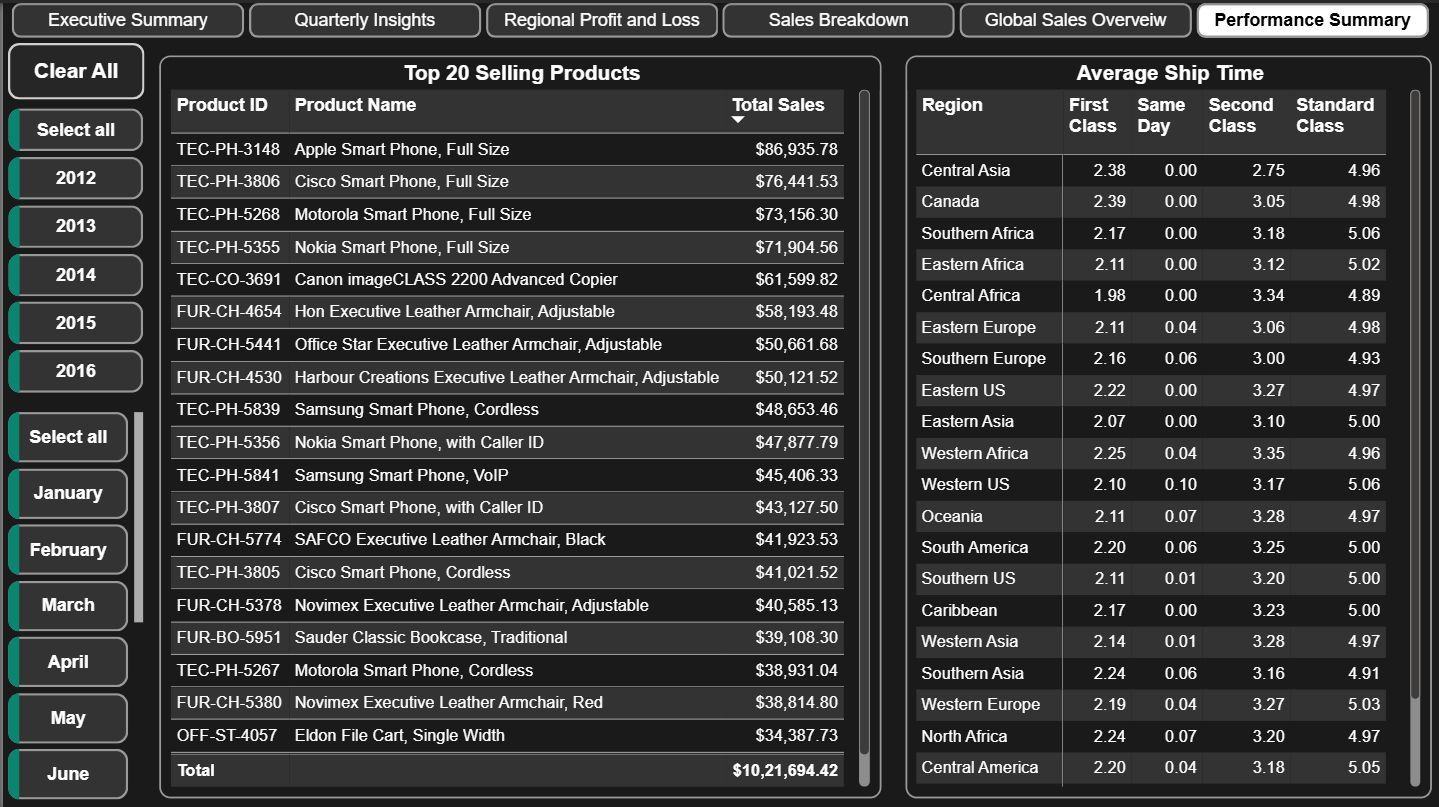

The dashboard page shown, as its layout file describes it:
{"tool":"powerbi","page":{"name":"Performance Summary","canvas":[1280,720],"ordinal":5},"visuals":[{"type":"pageNavigator","box":[8.1,0,1263.8,31.9],"z":0},{"type":"actionButton","box":[4.9,35.6,121.5,50.3],"z":250},{"type":"advancedSlicerVisual","fields":{"Values":["Dim_Date.Year"]},"box":[0,89.6,130.1,263.8],"z":500},{"type":"advancedSlicerVisual","fields":{"Values":["Dim_Date.Date.Variation.Date Hierarchy.Month"]},"box":[0,359.5,130.1,357.1],"z":750},{"type":"tableEx","fields":{"Values":["Dim_Products.Product ID","Dim_Products.Product Name","_Measures.Total Sales"]},"box":[138.7,46.6,642.9,661.4],"z":2000},{"type":"pivotTable","title":"Average Ship Time","fields":{"Values":["_Measures.Average Ship Time"],"Rows":["Dim_Customers.Region"],"Columns":["Fact_Orders.Ship Mode"]},"box":[803.7,46.6,468.7,661.4],"z":3000}]}

Visuals, with their boxes in screenshot pixels (x1, y1, x2, y2), scaled from the page's 1280x720 canvas onto the 1439x807 screenshot:
pageNavigator: bbox=[9, 0, 1430, 36]
actionButton: bbox=[6, 40, 142, 96]
advancedSlicerVisual - Dim_Date.Year: bbox=[0, 100, 146, 396]
advancedSlicerVisual - Dim_Date.Date.Variation.Date Hierarchy.Month: bbox=[0, 403, 146, 803]
tableEx - Dim_Products.Product ID x Dim_Products.Product Name: bbox=[156, 52, 879, 794]
"Average Ship Time" pivotTable: bbox=[904, 52, 1430, 794]
